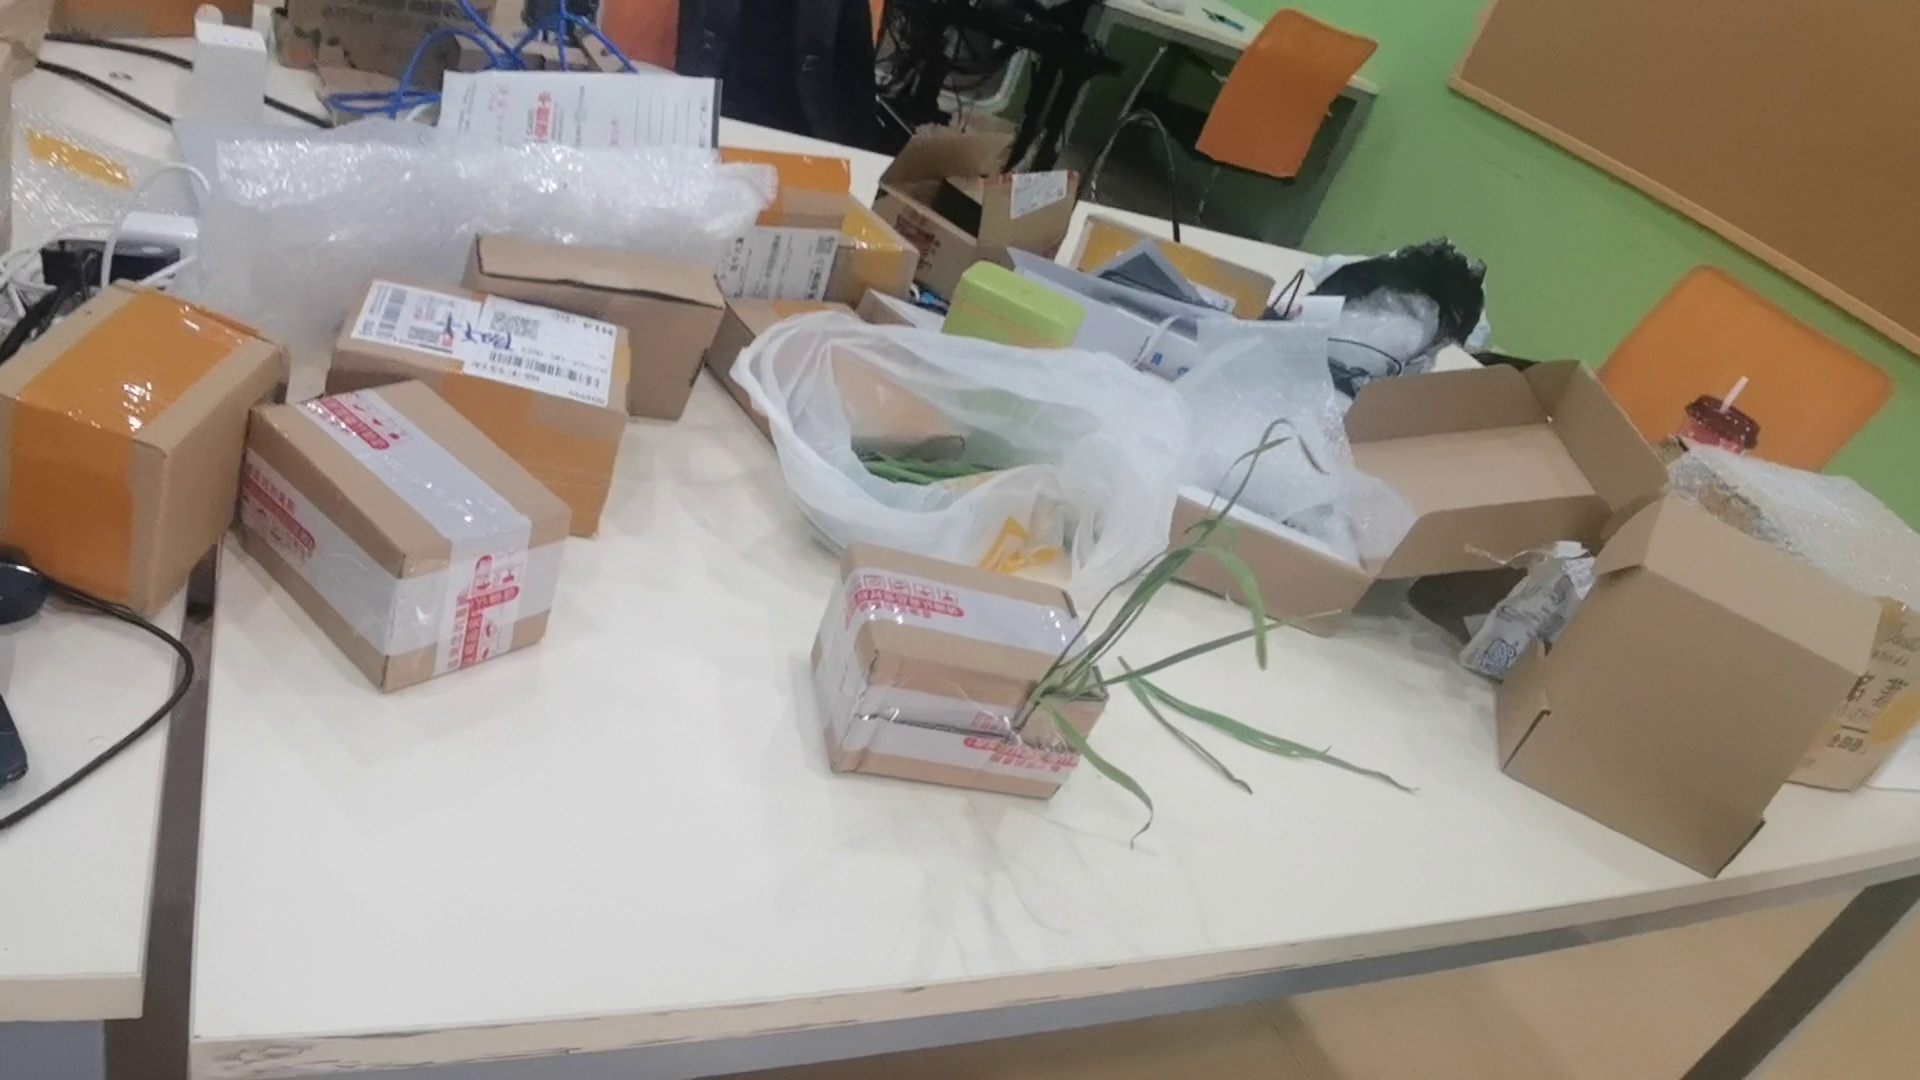chives: (994, 417, 1424, 815)
